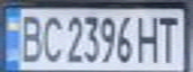2: (63, 11, 84, 64)
3: (81, 11, 100, 64)
6: (115, 12, 139, 63)
9: (97, 12, 118, 63)
B: (15, 10, 45, 63)
C: (39, 11, 63, 64)
H: (136, 11, 163, 64)
T: (154, 11, 184, 63)
